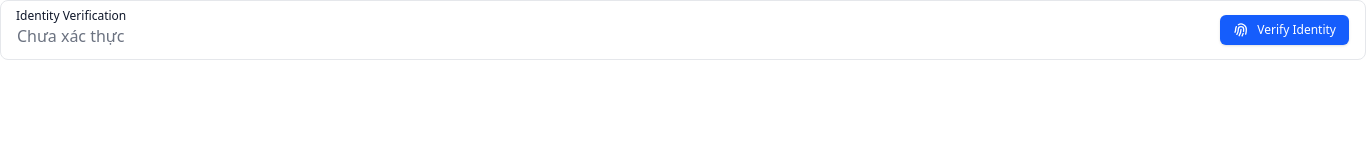
Test: EkycField › shows loading state during verification
What coordinates should you click on to do the following:
click the button "Verify Identity"
I would click on:
 (1285, 30)
Its box is [1220, 15, 1349, 45].
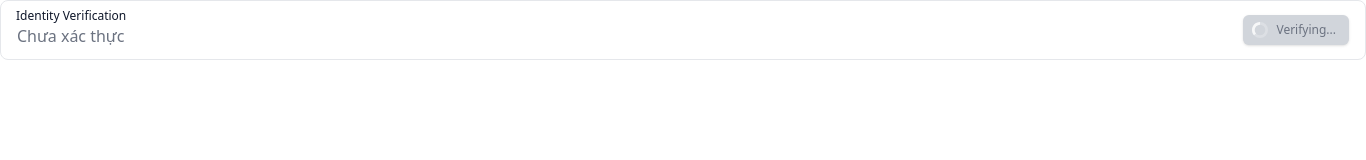
Expected: the button "Verifying..." is disabled, [1243, 15, 1349, 45]
